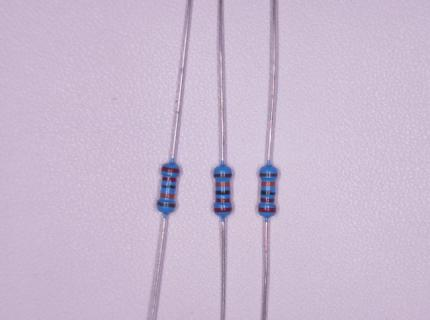Black band: (216, 190, 231, 195), (261, 190, 276, 195), (162, 184, 176, 189)
Brown band: (157, 201, 175, 208), (260, 173, 278, 177), (214, 173, 231, 177)
Orange band: (160, 193, 175, 199), (216, 182, 230, 187), (262, 182, 276, 186)
Red band: (162, 166, 179, 173), (259, 207, 276, 212), (216, 198, 230, 203), (214, 208, 231, 212), (163, 177, 176, 182), (261, 198, 274, 202)
